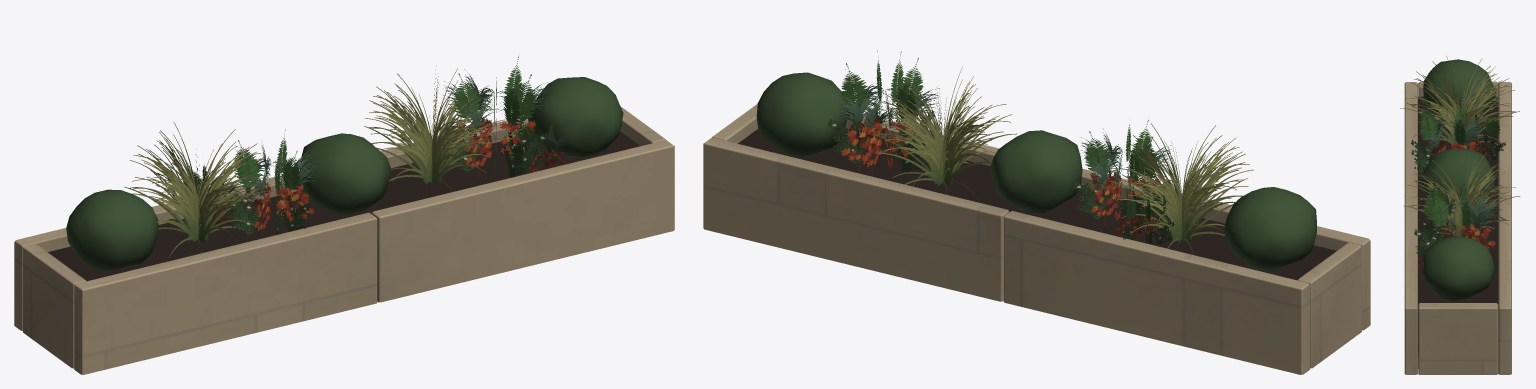
The model's file is courtyard_planter.gltf.
The picture shows the model from 3 angles, left to right: view 1: azimuth 30°, elevation 25°; view 2: azimuth 150°, elevation 25°; view 3: azimuth 270°, elevation 25°; orthographic projection. The views are drawn at different scales.
Parts seen in each view (by area): view 1: CourtyardPlanter_Wall_S0, CourtyardPlanter_Wall_S1, CourtyardPlanter_Grass, CourtyardPlanter_Soil, CourtyardPlanter_Boxwood0, CourtyardPlanter_Boxwood1, CourtyardPlanter_Boxwood2, CourtyardPlanter_End_W, CourtyardPlanter_Wall_N0, CourtyardPlanter_Wall_N1, CourtyardPlanter_End_E; view 2: CourtyardPlanter_Wall_N0, CourtyardPlanter_Wall_N1, CourtyardPlanter_Grass, CourtyardPlanter_Soil, CourtyardPlanter_Boxwood0, CourtyardPlanter_Boxwood2, CourtyardPlanter_Boxwood1, CourtyardPlanter_End_W, CourtyardPlanter_Wall_S0, CourtyardPlanter_End_E, CourtyardPlanter_Wall_S1; view 3: CourtyardPlanter_Grass, CourtyardPlanter_End_E, CourtyardPlanter_Soil, CourtyardPlanter_Boxwood2, CourtyardPlanter_Wall_N1, CourtyardPlanter_Wall_S1, CourtyardPlanter_Boxwood1, CourtyardPlanter_Boxwood0, CourtyardPlanter_Wall_S0, CourtyardPlanter_Wall_N0, CourtyardPlanter_End_W.
Boxes of the visible parts, <box> form: CourtyardPlanter_Wall_S0: <box>74,212,377,374</box>; CourtyardPlanter_Wall_S1: <box>371,140,674,302</box>; CourtyardPlanter_Grass: <box>124,56,570,257</box>; CourtyardPlanter_Soil: <box>48,131,640,281</box>; CourtyardPlanter_Boxwood0: <box>66,189,158,271</box>; CourtyardPlanter_Boxwood1: <box>300,133,391,214</box>; CourtyardPlanter_Boxwood2: <box>528,77,623,157</box>; CourtyardPlanter_End_W: <box>23,243,86,368</box>; CourtyardPlanter_Wall_N0: <box>14,175,302,330</box>; CourtyardPlanter_Wall_N1: <box>380,117,528,168</box>; CourtyardPlanter_End_E: <box>620,106,665,145</box>; CourtyardPlanter_Wall_N0: <box>1003,211,1309,374</box>; CourtyardPlanter_Wall_N1: <box>703,137,1009,301</box>; CourtyardPlanter_Grass: <box>828,50,1253,254</box>; CourtyardPlanter_Soil: <box>738,129,1336,280</box>; CourtyardPlanter_Boxwood0: <box>1223,187,1316,270</box>; CourtyardPlanter_Boxwood2: <box>756,72,848,157</box>; CourtyardPlanter_Boxwood1: <box>990,130,1082,213</box>; CourtyardPlanter_End_W: <box>1297,242,1361,368</box>; CourtyardPlanter_Wall_S0: <box>1080,169,1370,330</box>; CourtyardPlanter_End_E: <box>712,104,757,143</box>; CourtyardPlanter_Wall_S1: <box>844,112,999,165</box>; CourtyardPlanter_Grass: <box>1400,56,1520,270</box>; CourtyardPlanter_End_E: <box>1418,303,1498,374</box>; CourtyardPlanter_Soil: <box>1418,96,1498,356</box>; CourtyardPlanter_Boxwood2: <box>1422,235,1494,301</box>; CourtyardPlanter_Wall_N1: <box>1498,195,1511,374</box>; CourtyardPlanter_Wall_S1: <box>1404,195,1417,374</box>; CourtyardPlanter_Boxwood1: <box>1420,149,1494,200</box>; CourtyardPlanter_Boxwood0: <box>1423,59,1495,118</box>; CourtyardPlanter_Wall_S0: <box>1404,82,1417,196</box>; CourtyardPlanter_Wall_N0: <box>1498,82,1511,196</box>; CourtyardPlanter_End_W: <box>1418,81,1498,96</box>.
Size of the model in its own units: 4 by 1.37 by 0.9134.
Materials: 4 (2 with a texture image).
